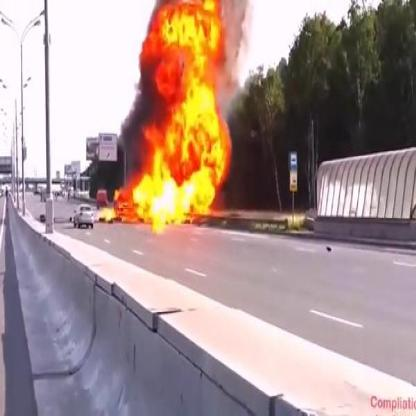fire: (100, 0, 235, 229)
